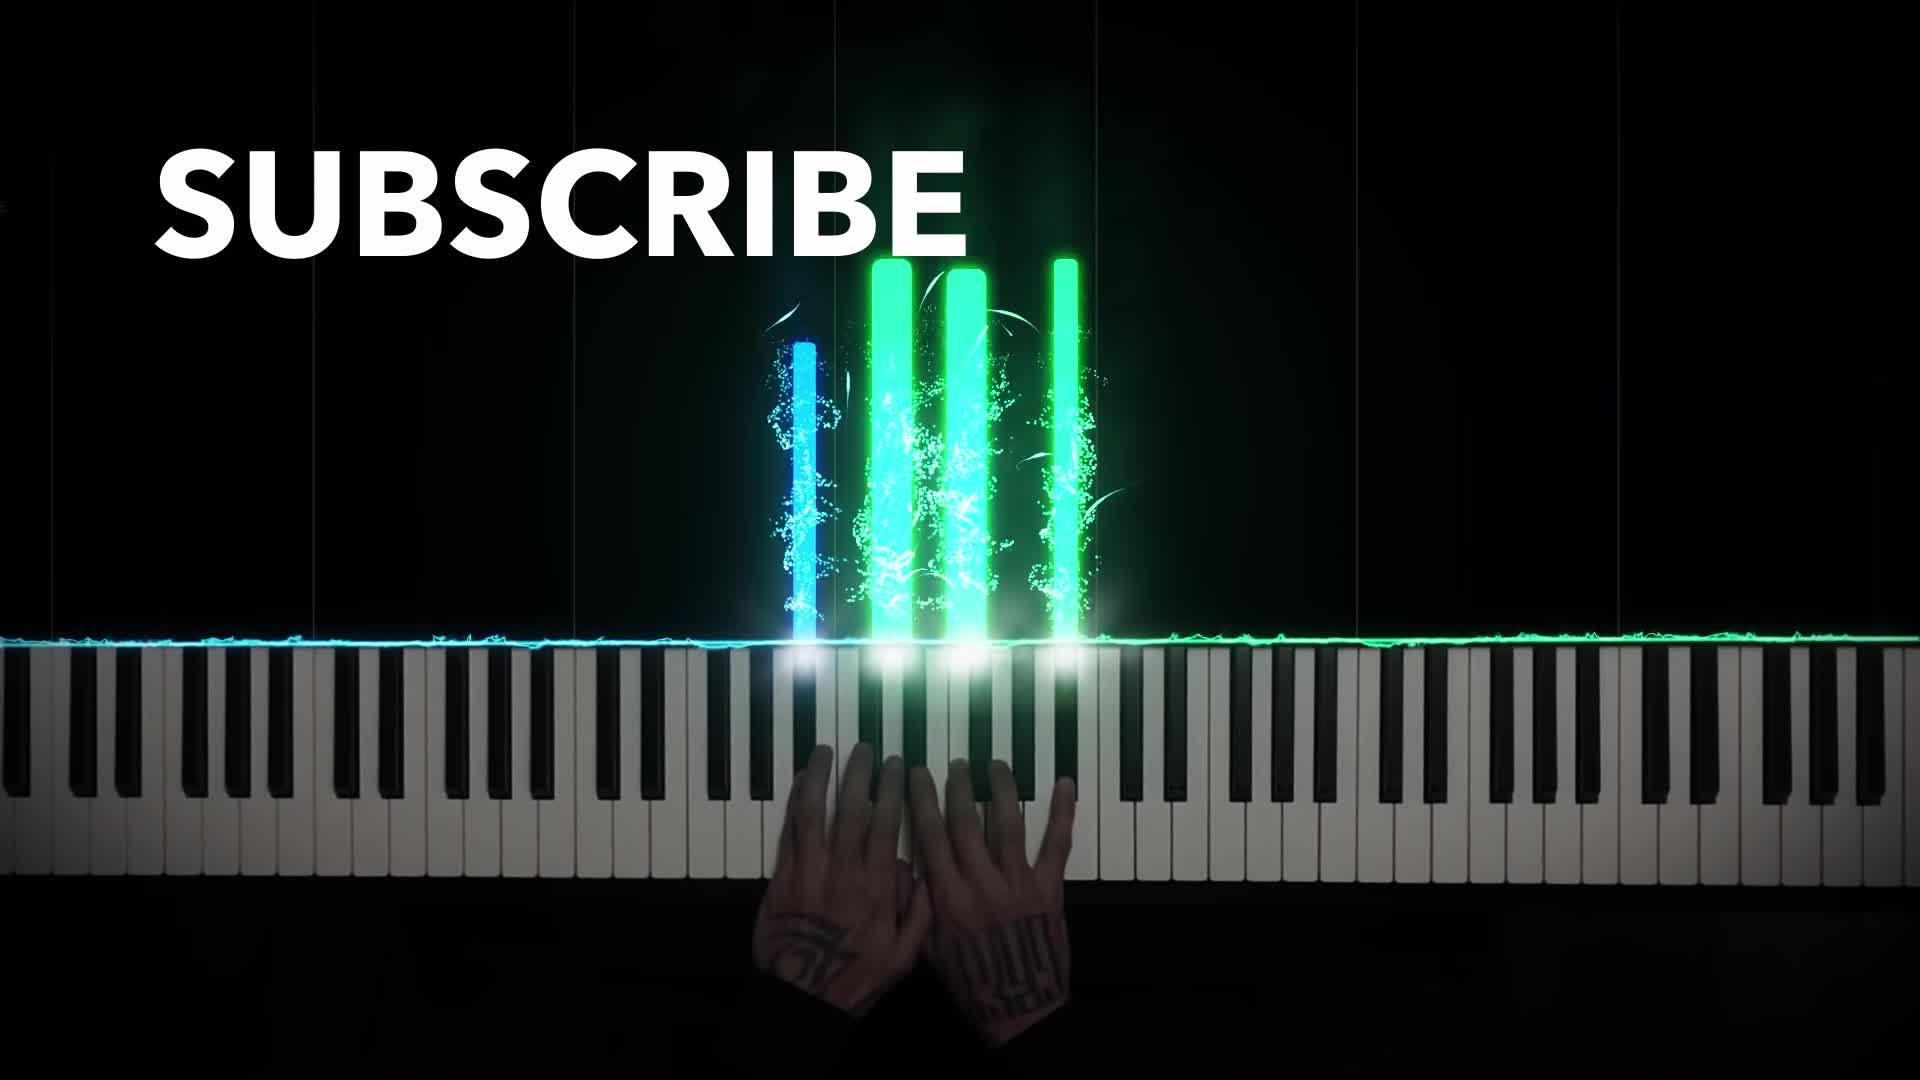left: (748, 735, 931, 1025)
right: (886, 753, 1085, 1030)
